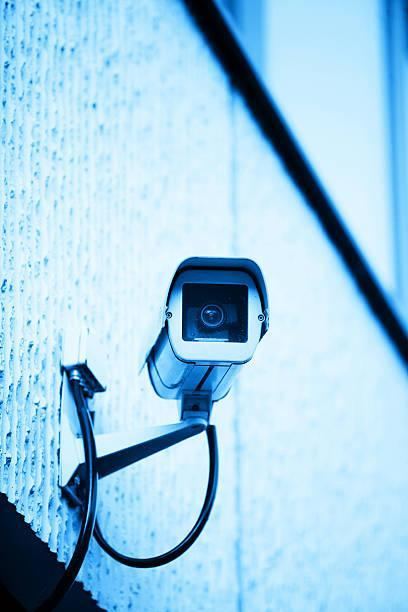camera: (137, 212, 297, 438)
